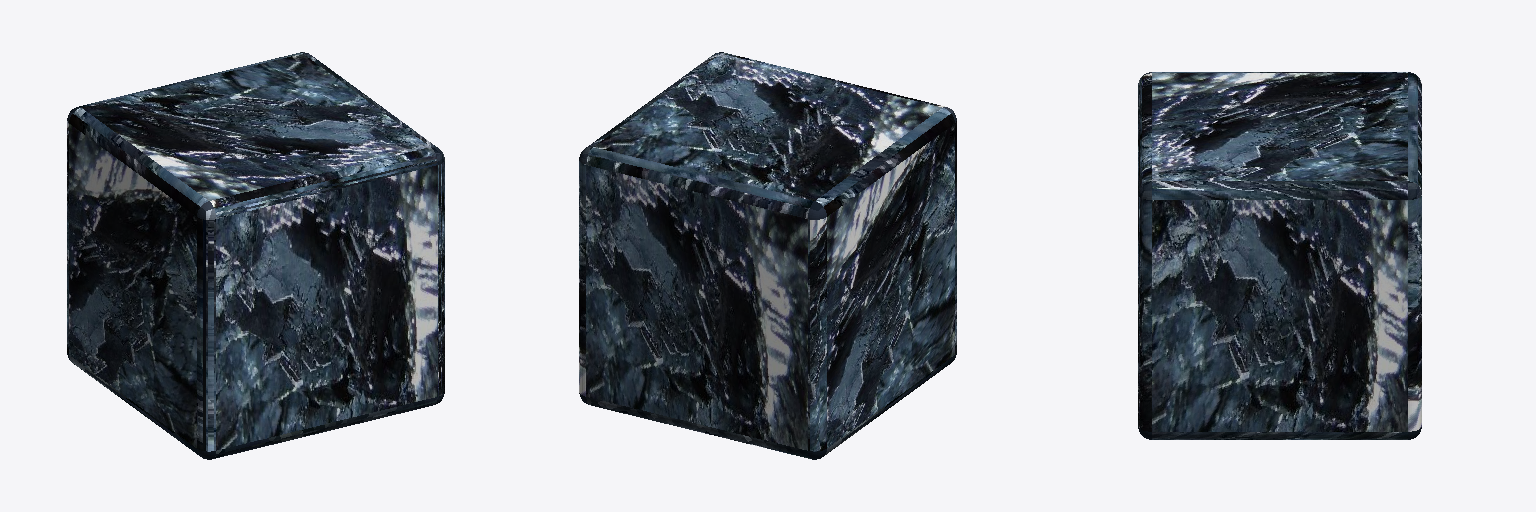
The picture shows the model from 3 angles: view 1: azimuth 30°, elevation 25°; view 2: azimuth 150°, elevation 25°; view 3: azimuth 270°, elevation 25°; orthographic projection.
Visible parts, largest first — view 1: Cube; view 2: Cube; view 3: Cube.
Boxes of the visible parts, box(x1,y1,x2,y2) form: Cube: box(67, 52, 444, 459); Cube: box(579, 52, 956, 459); Cube: box(1138, 72, 1421, 439).
Size of the model in its own units: 2 by 2 by 2.
1 materials, 1 textured.